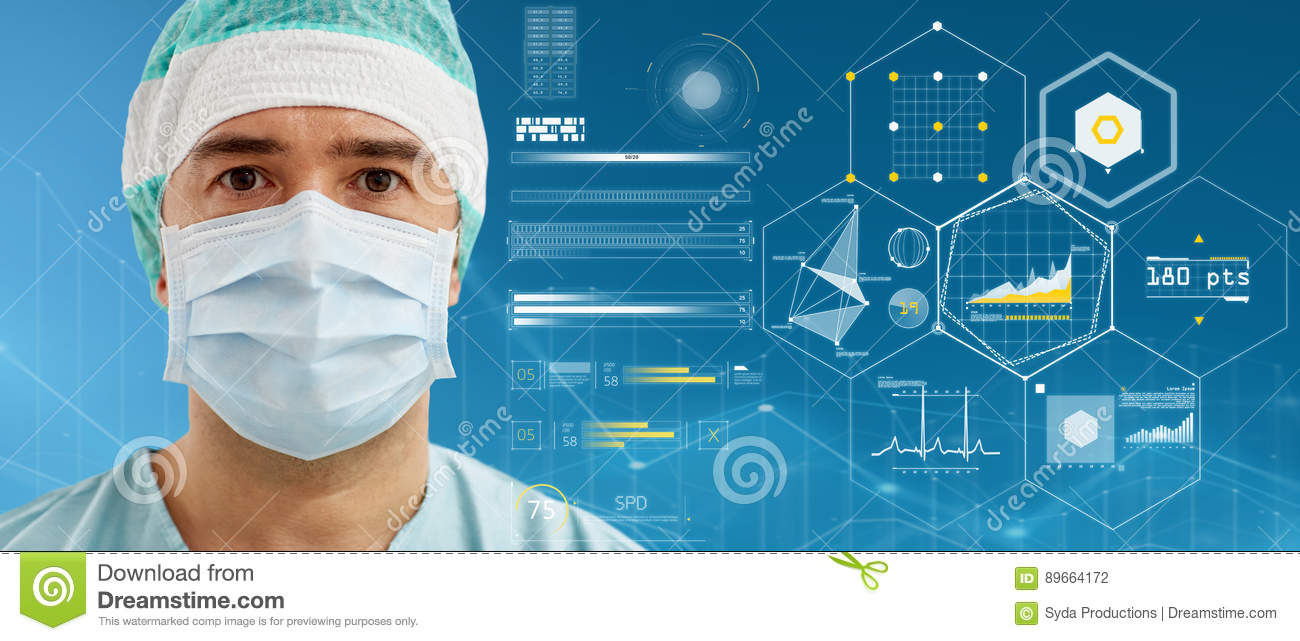mask: (167, 219, 441, 445)
